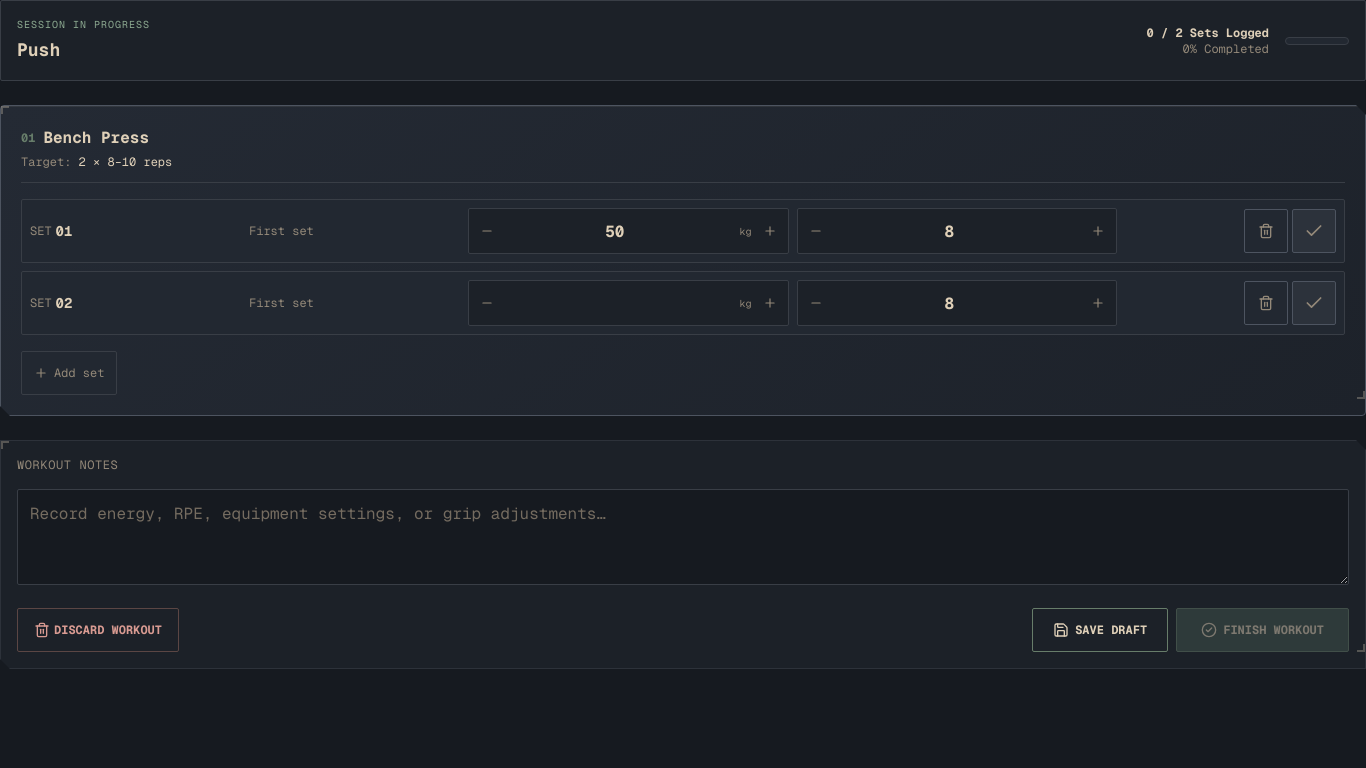
Scenario: persistent workout logging › recovers controls and preserves the draft when a workout request is interrupted
Type "Keep this offline" into the text box labelled "Workout notes". click: (683, 537)
box: left=17, top=489, right=1349, bottom=585
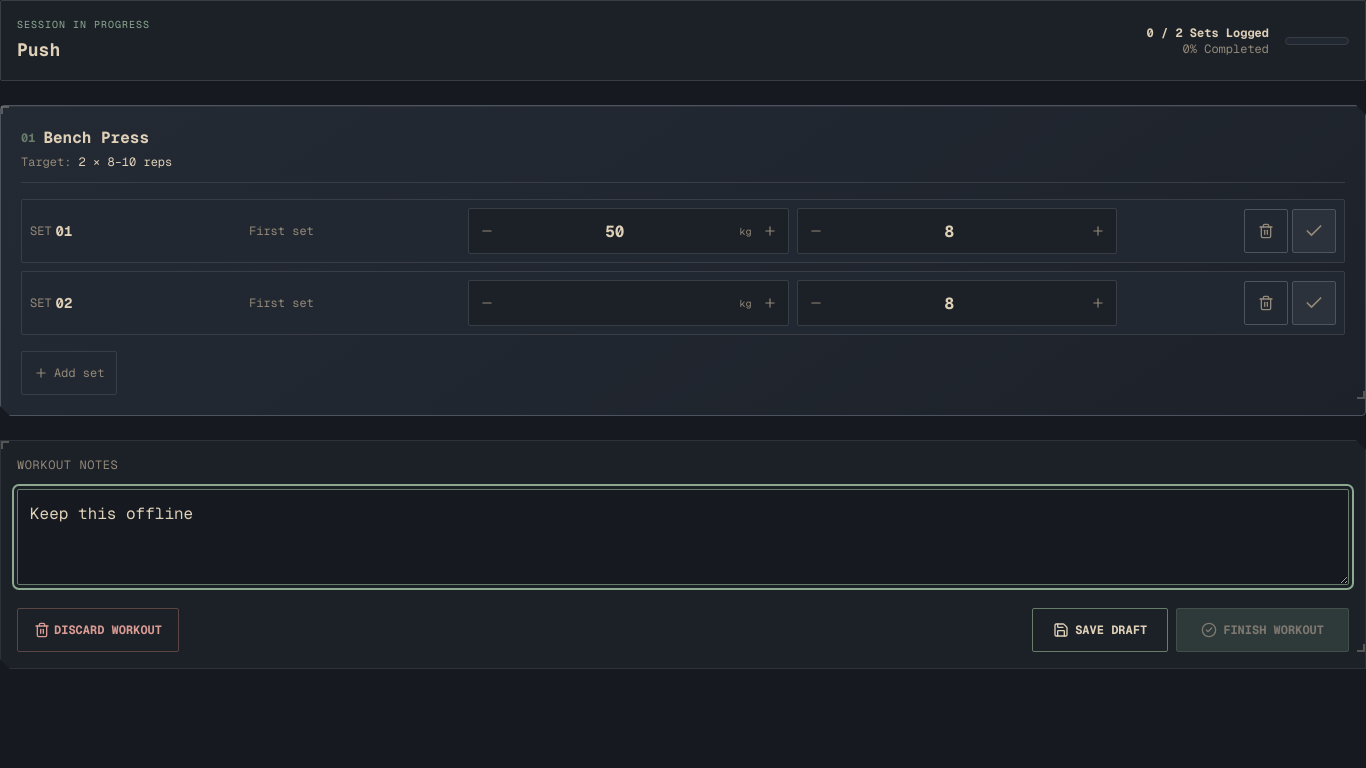
Click the button "Save draft". click: (1100, 630)
box: left=1032, top=608, right=1168, bottom=652
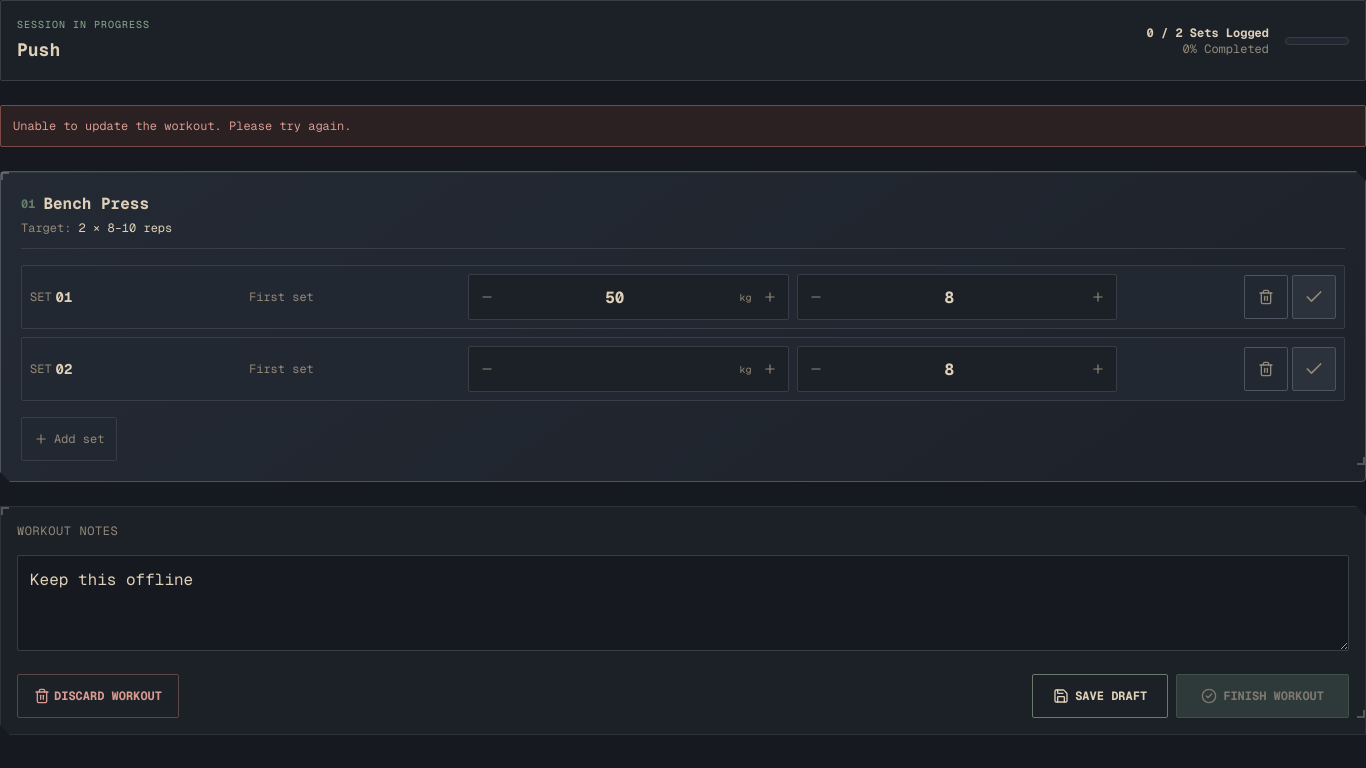
Expected: the button "Save draft" is enabled, left=1032, top=674, right=1168, bottom=718
Now the message shows "Unable to update the workout", box left=13, top=118, right=351, bottom=134
